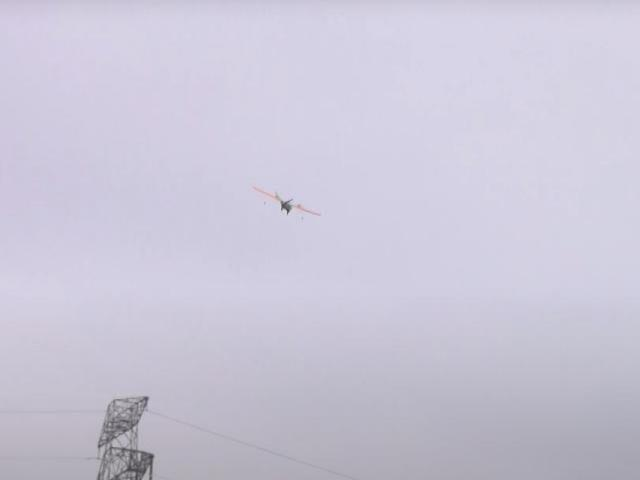iha: (249, 186, 320, 220)
